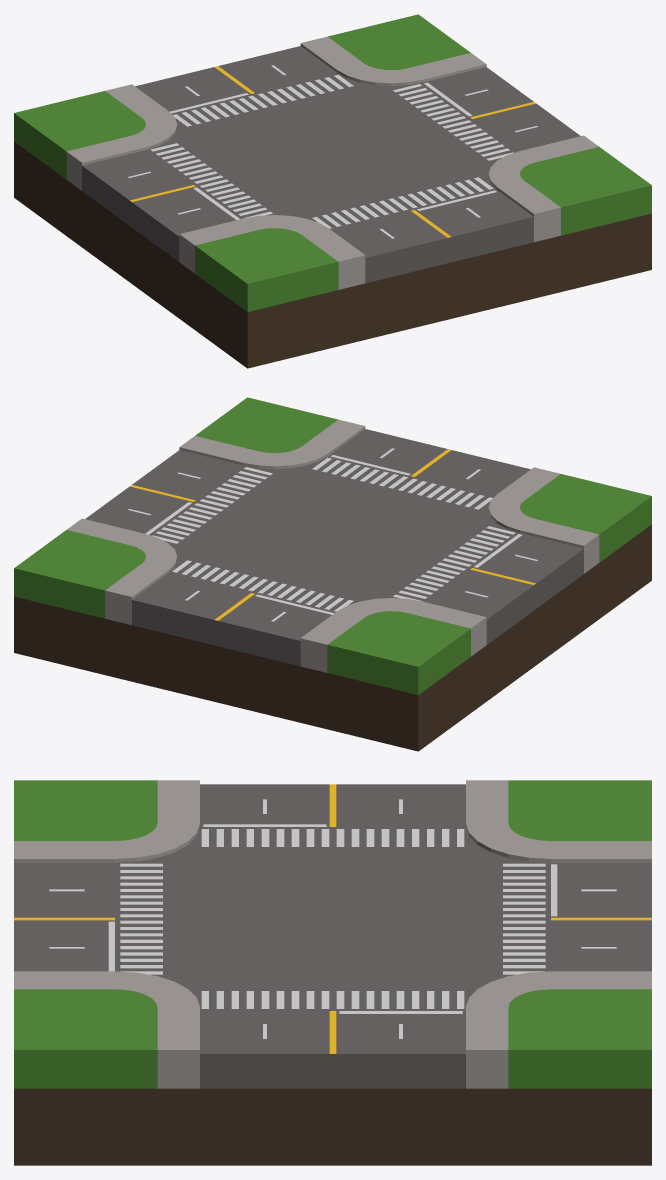
The model's file is tile-mainroad-intersection.fbx.
3 renders of one model, top to bottom at view 1: azimuth 30°, elevation 25°; view 2: azimuth 150°, elevation 25°; view 3: azimuth 270°, elevation 25°, orthographic. The views are drawn at different scales.
Visible parts, largest first — view 1: tile-mainroad-intersection; view 2: tile-mainroad-intersection; view 3: tile-mainroad-intersection.
Boxes of the visible parts, x1,y1,x2,y2 form: tile-mainroad-intersection: [14, 14, 651, 368]; tile-mainroad-intersection: [14, 397, 651, 751]; tile-mainroad-intersection: [14, 780, 651, 1165].
Bounding box in the file's own units: 30 × 6 × 30.
